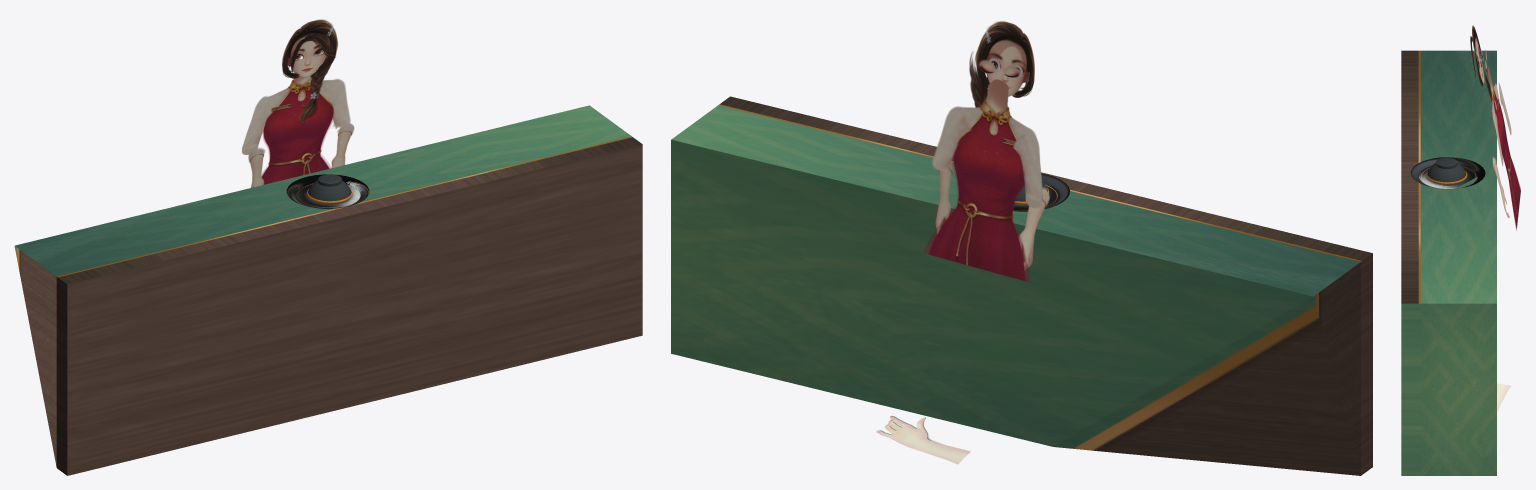
File: girlAnimation.glb
3 views of the same model, side by side, from view 1: azimuth 30°, elevation 25°; view 2: azimuth 150°, elevation 25°; view 3: azimuth 270°, elevation 25° (orthographic). The views are drawn at different scales.
Parts seen in each view (by area): view 1: Cube, body, head, dish, bowl, left upper hand, right hair group; view 2: Cube, body, head, dish hand, left upper hand, right upper hand, left lower hand, dish, right lower hand; view 3: Cube, body, dish, bowl, head, right lower hand, dish hand, left upper hand, right upper hand.
Boxes of the visible parts, x1,y1,x2,y2 form: Cube: [14, 105, 642, 475]; body: [261, 76, 344, 184]; head: [282, 19, 337, 77]; dish: [286, 174, 369, 208]; bowl: [307, 174, 352, 203]; left upper hand: [242, 96, 268, 155]; right hair group: [298, 58, 331, 124]; Cube: [671, 96, 1372, 475]; body: [923, 79, 1035, 282]; head: [976, 21, 1034, 96]; dish hand: [876, 416, 970, 464]; left upper hand: [1013, 130, 1042, 208]; right upper hand: [931, 106, 971, 172]; left lower hand: [1019, 187, 1049, 270]; dish: [1013, 173, 1069, 211]; right lower hand: [935, 162, 953, 234]; Cube: [1401, 50, 1496, 475]; body: [1487, 67, 1520, 230]; dish: [1411, 157, 1485, 188]; bowl: [1426, 157, 1467, 184]; head: [1472, 25, 1484, 83]; right lower hand: [1492, 157, 1509, 217]; dish hand: [1497, 383, 1510, 411]; left upper hand: [1498, 83, 1511, 134]; right upper hand: [1493, 109, 1503, 166].
Bounding box in the file's own units: 6.28 × 4.13 × 1.26.
Materials: 19 (16 with a texture image).
